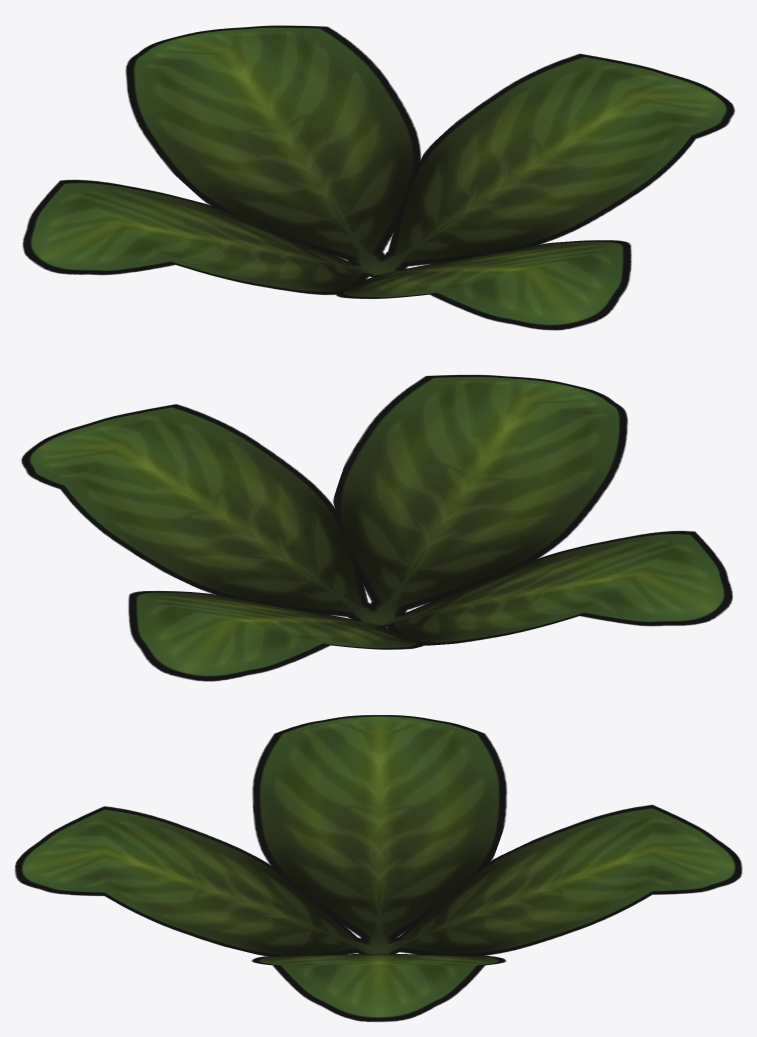
File: Flower6.glb
3 renders of one model, top to bottom at view 1: azimuth 30°, elevation 25°; view 2: azimuth 150°, elevation 25°; view 3: azimuth 270°, elevation 25°, orthographic. The views are drawn at different scales.
Visible parts, largest first — view 1: Leaves_Flowers_0; view 2: Leaves_Flowers_0; view 3: Leaves_Flowers_0.
Part boxes in pixels (left/top/right/bottom): Leaves_Flowers_0: left=22, top=25, right=734, bottom=330; Leaves_Flowers_0: left=21, top=374, right=732, bottom=681; Leaves_Flowers_0: left=14, top=715, right=742, bottom=1022.
Size of the model in its own units: 0.0748 by 0.0118 by 0.0748.
Materials: 1 (1 with a texture image).
